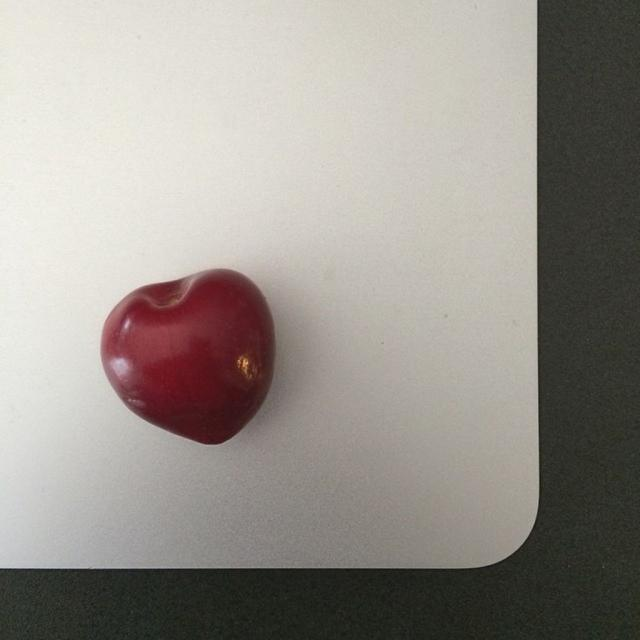Healty Apple: (99, 268, 275, 448)
